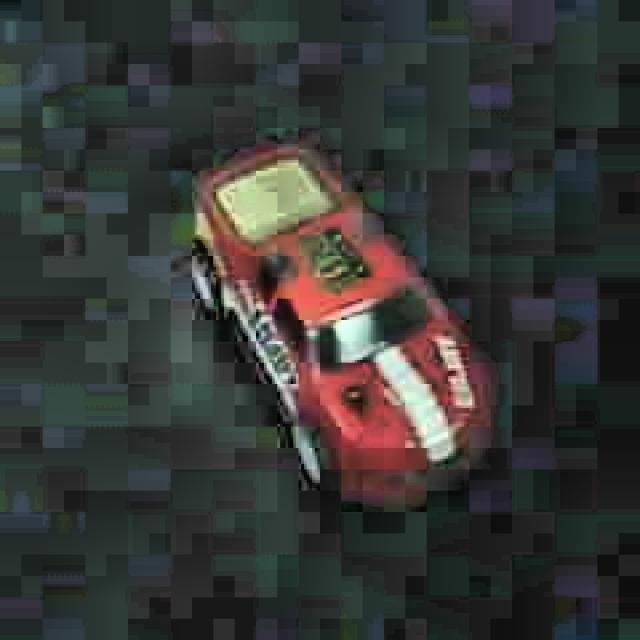car: (185, 136, 496, 509)
